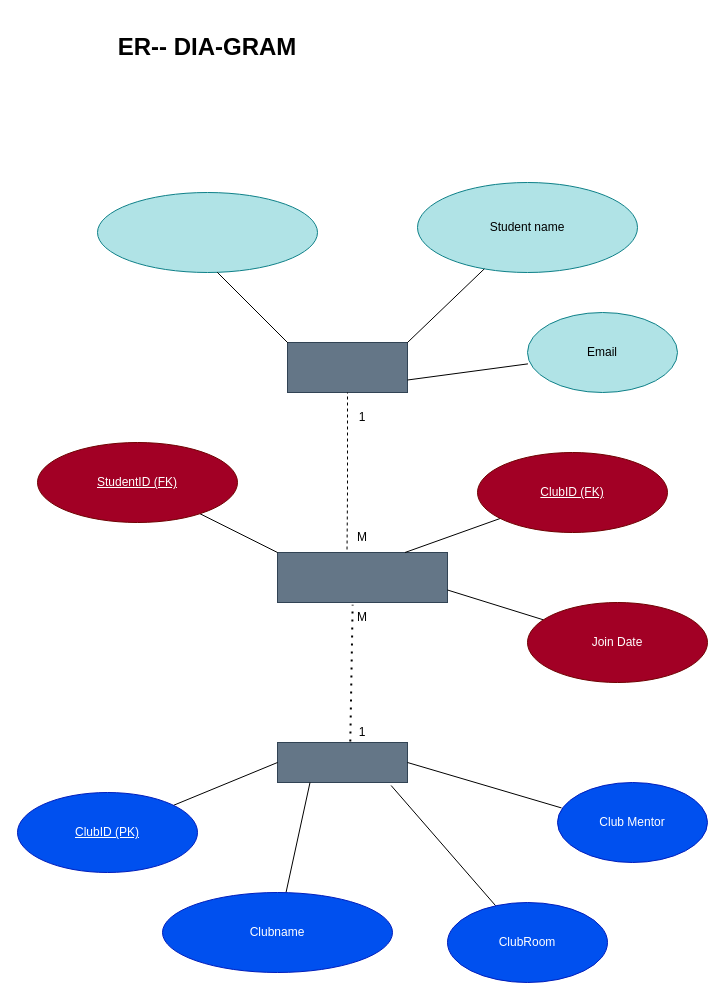
Some shapes in this 725 by 1000 pixel diagram are drawn without their labels. Each missing label, with the box of its shape:
Club: (276, 742, 408, 782)
Membership: (276, 552, 448, 602)
Student: (286, 342, 408, 392)
StudentID(pk): (96, 192, 318, 272)
